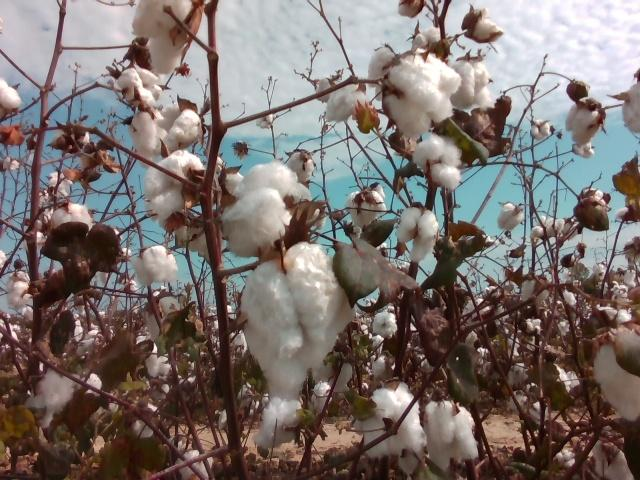cotton_ready: (242, 241, 356, 449), (225, 161, 314, 256), (385, 47, 460, 137), (131, 0, 195, 76), (361, 384, 427, 456), (142, 149, 202, 223), (424, 400, 479, 470), (595, 342, 640, 423), (415, 137, 461, 190), (144, 292, 187, 347), (395, 207, 439, 260), (455, 58, 497, 111), (155, 104, 204, 148), (133, 244, 181, 285), (347, 182, 387, 228), (119, 69, 163, 109), (367, 47, 397, 101), (324, 84, 366, 121), (130, 108, 165, 152), (565, 105, 601, 144), (49, 202, 93, 230), (464, 8, 501, 40)
